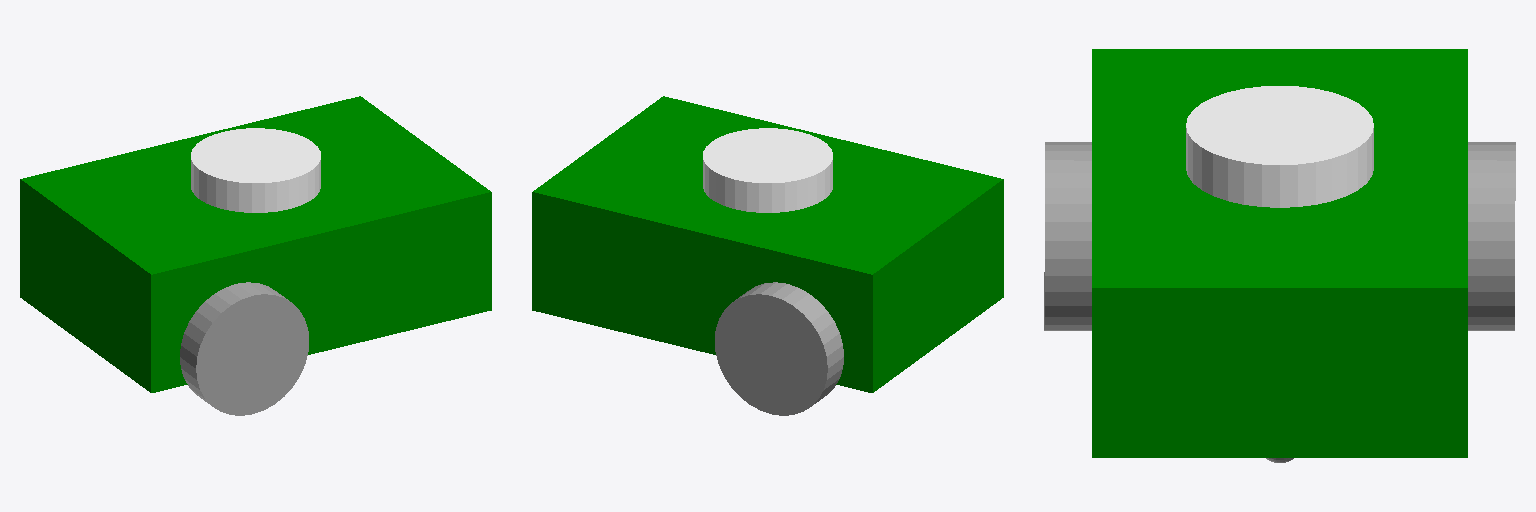
The robot description file, URDF, robot "my_robot":
<?xml version="1.0"?>
<robot name="my_robot">

   <material name="grey">
      <color rgba="0.7 0.7 0.7 1"/>
      </material>

      <material name="green">
      <color rgba="0 0.6 0 1"/>
        </material>

        <material name="white">
        <color rgba="1 1 1 1"/>
        </material>

<link name="base_footprint">
</link>

<link name="base_link">
<visual>
<geometry>
<box size="0.6 0.4 0.2"/>
</geometry>
<origin xyz="0 0 0.1" rpy="0 0 0"/>
<material name="green"/>
</visual>
</link>

<link name="lidar">
<visual>
<geometry>
<cylinder radius="0.1" length="0.05"/>
</geometry>
<origin xyz="0 0 0" rpy="0 0 0"/>
<material name="white"/>
</visual>
</link>

<link name="left_wheel">
<visual>
<geometry>
<cylinder radius="0.1" length="0.05"/>
</geometry>
<origin xyz="-0 0 0" rpy="1.57 0 0"/>
<material name="grey"/>
</visual>
</link>

<link name="right_wheel">
<visual>
<geometry>
<cylinder radius="0.1" length="0.05"/>
</geometry>
<origin xyz="0 0 0" rpy="1.57 0 0"/>
<material name="grey"/>
</visual>
</link> 

<link name="castor_wheel">
<visual>
<geometry>
<sphere radius="0.025"/>
</geometry>
<origin xyz="0 0 0" rpy="0 0 0"/>
<material name="grey"/>
</visual>
</link>

<joint name="base_joint" type="fixed">
<parent link="base_footprint"/>
<child link="base_link"/>
<origin xyz="0 0 0.05" rpy="0 0 0"/>
</joint>

<joint name="base_lidar_joint" type="fixed">
<parent link="base_link"/>
<child link="lidar"/>
<origin xyz="0 0 0.225" rpy="0 0 0"/>
</joint>

<joint name="base_left_wheel_joint" type="continuous">
<parent link="base_link"/>
<child link="left_wheel"/>
<origin xyz="-0.15 0.225 0.05" rpy="0 0 0"/>
<axis xyz="0 1 0"/>
</joint>

<joint name="base_right_wheel_joint" type="continuous">
<parent link="base_link"/>
<child link="right_wheel"/>
<origin xyz="-0.15 -0.225 0.05" rpy="0 0 0"/>
<axis xyz="0 1 0"/>
</joint>

<joint name="base_castor_wheel_joint" type="fixed">
<parent link="base_link"/>
<child link="castor_wheel"/>
<origin xyz="0.2 0 -0.025" rpy="0 0 0"/>
<axis xyz="0 0 0"/>
</joint>

</robot>

--- Render facts (derived) ---
The picture shows the robot from 3 angles, left to right: view 1: azimuth 30°, elevation 25°; view 2: azimuth 150°, elevation 25°; view 3: azimuth 270°, elevation 25°; orthographic projection.
Robot: my_robot — 6 links, 5 joints (2 continuous, 3 fixed); root link base_footprint; default pose: all joints at 0.
Visible links, largest first — view 1: base_link, right_wheel, lidar; view 2: base_link, left_wheel, lidar; view 3: base_link, lidar, left_wheel, right_wheel.
Boxes of the visible links, x1,y1,x2,y2 form: base_link: (20,96,491,392); right_wheel: (180,282,308,415); lidar: (191,128,320,212); base_link: (532,96,1003,392); left_wheel: (715,282,843,415); lidar: (703,128,832,212); base_link: (1092,49,1467,457); lidar: (1186,86,1373,207); left_wheel: (1468,142,1515,330); right_wheel: (1044,142,1091,330).
Size in the robot's own frame: 0.6 by 0.5002 by 0.3 metres.
Geometry: primitives only (box / cylinder / sphere), no mesh files.
